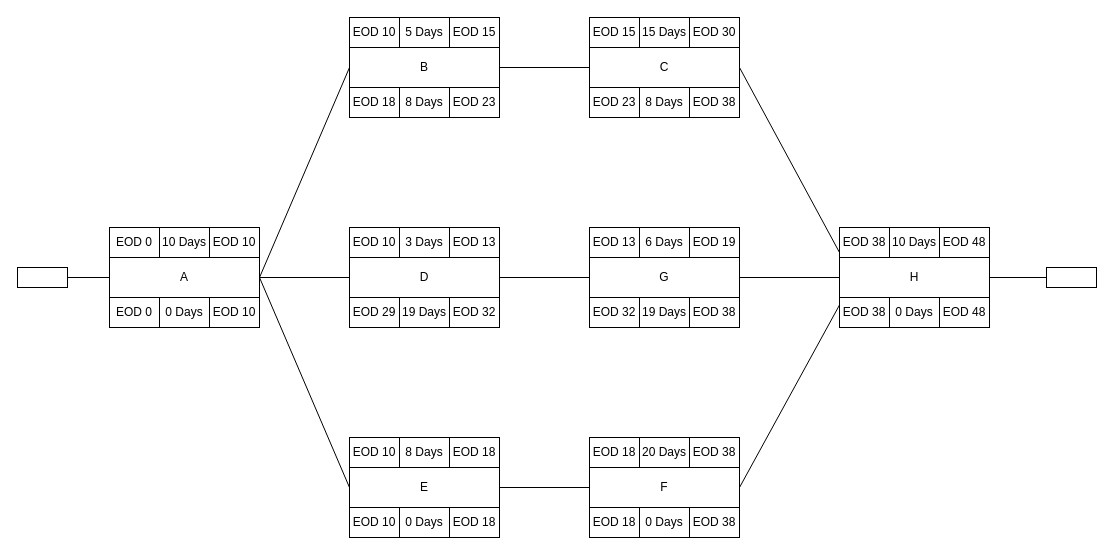
The diagram is 1114 pixels wide and 555 high, and some of its shapes have lost their labels. Here are the shapes that lost their labels. From the top down, the centre of each, then its label:
At (42,277): "Start".
At (1071,277): "End".
